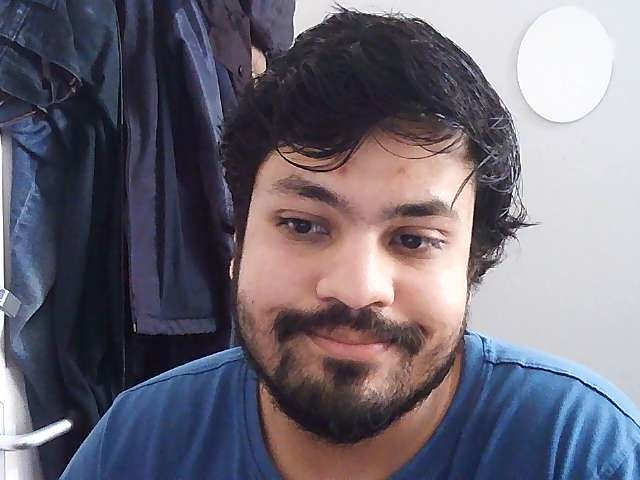Face: (220, 4, 509, 445)
